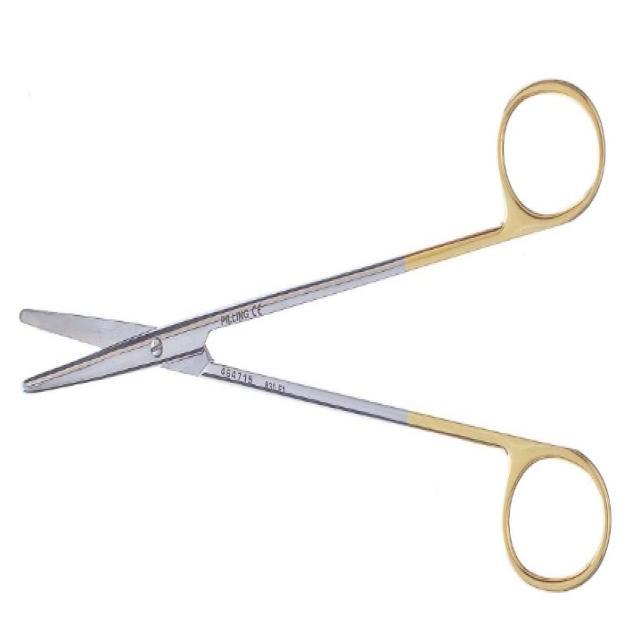Metzenbaum Sciccors: (18, 72, 614, 594)
